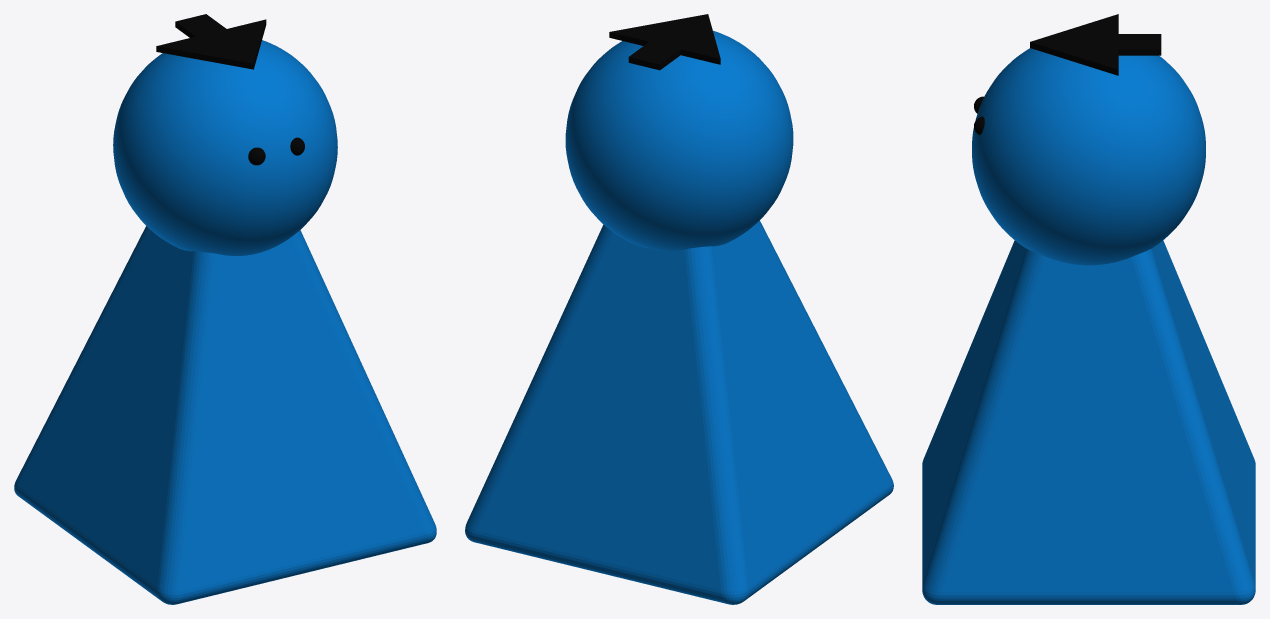
Rendered from 5blue.obj.
The picture shows the model from 3 angles, left to right: view 1: azimuth 30°, elevation 25°; view 2: azimuth 150°, elevation 25°; view 3: azimuth 270°, elevation 25°; orthographic projection. The views are drawn at different scales.
Parts seen in each view (by area): view 1: Curve.003_Curve.008, Curve.003_Curve.009_Curve.003_Curve.002; view 2: Curve.003_Curve.008, Curve.003_Curve.009_Curve.003_Curve.002; view 3: Curve.003_Curve.008, Curve.003_Curve.009_Curve.003_Curve.002.
Part boxes in pixels (<box>): Curve.003_Curve.008: <box>14,40,436,604</box>; Curve.003_Curve.009_Curve.003_Curve.002: <box>156,14,304,165</box>; Curve.003_Curve.008: <box>465,30,893,604</box>; Curve.003_Curve.009_Curve.003_Curve.002: <box>609,14,720,70</box>; Curve.003_Curve.008: <box>922,48,1255,604</box>; Curve.003_Curve.009_Curve.003_Curve.002: <box>974,14,1161,134</box>.
Bounding box in the file's own units: 0.2932 × 0.4819 × 0.2932.
